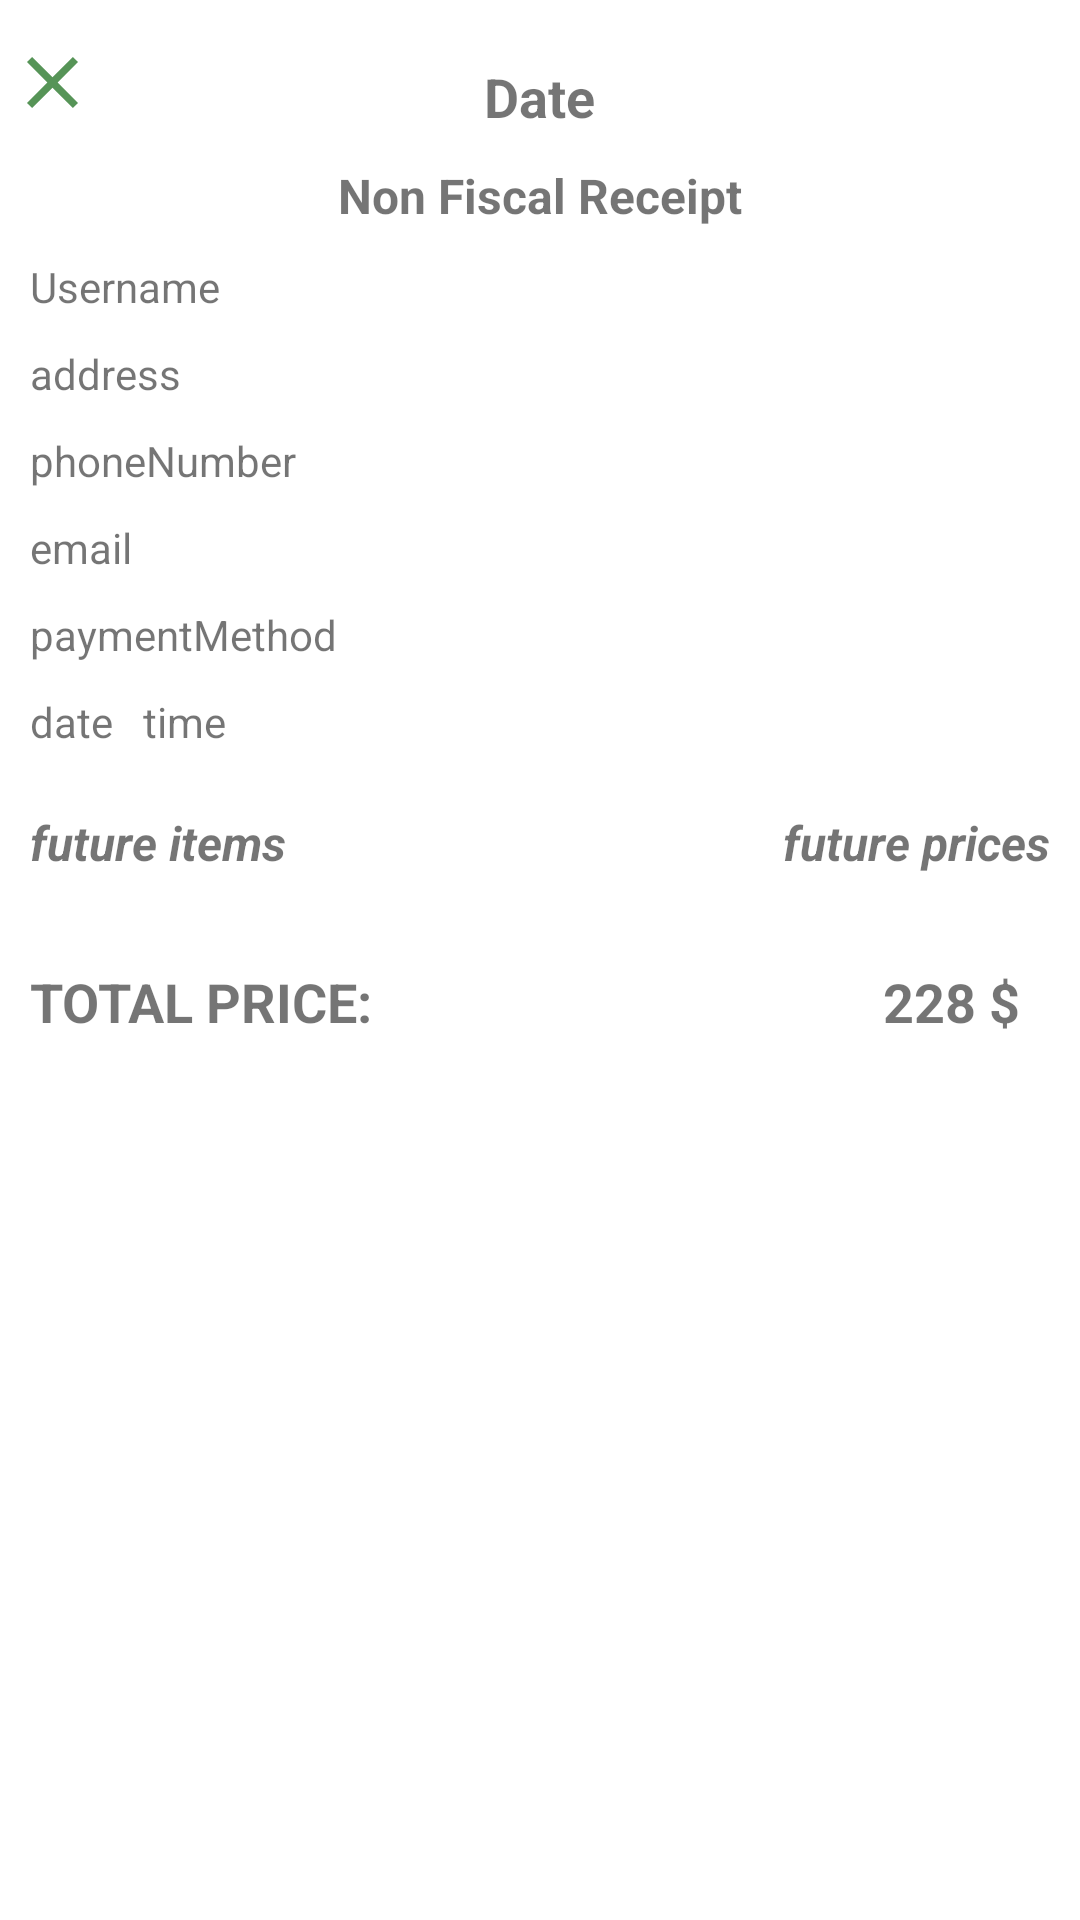

Icon bounding boxes for this 1080*1920 phone screenshot, format (x1, y1, x2, y2):
cross: (27, 57, 78, 108)
